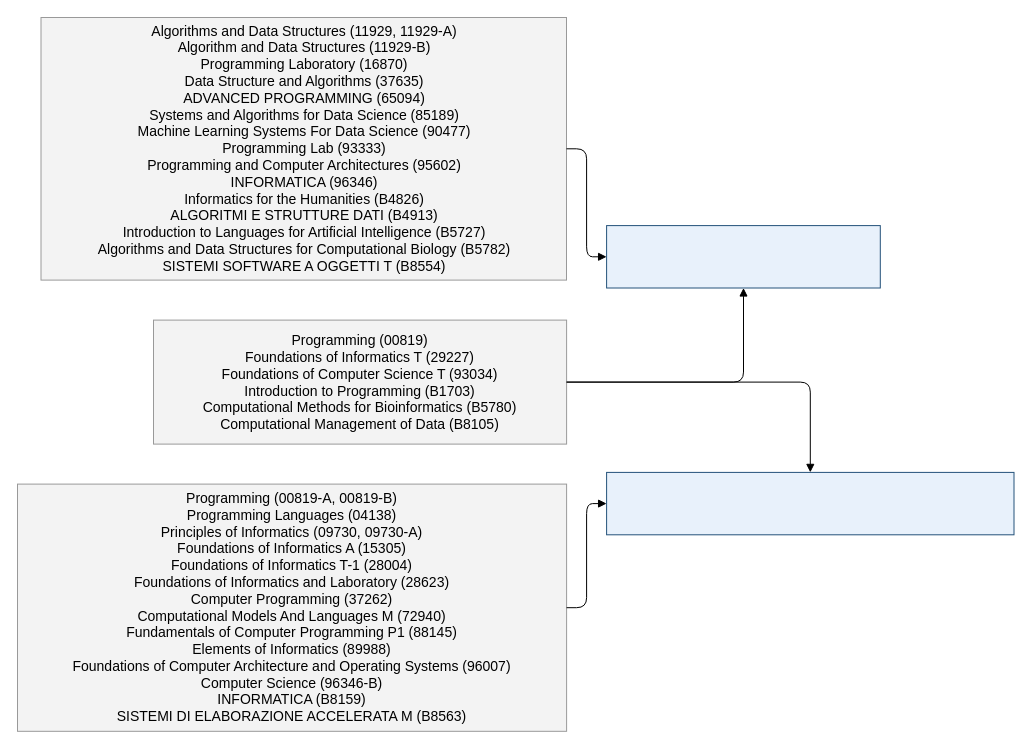
Image size: 1032x749. Some labels were removed from this diagram. The shapes that lost their labels are listed below. From the top down, each one's centre as x and y in pixels, then its label:
(x=743, y=256): Queues, Dictionaries, and Sets 3 ECTS
(x=810, y=503): Algorithmic Foundations and Data Representation 3 ECTS
